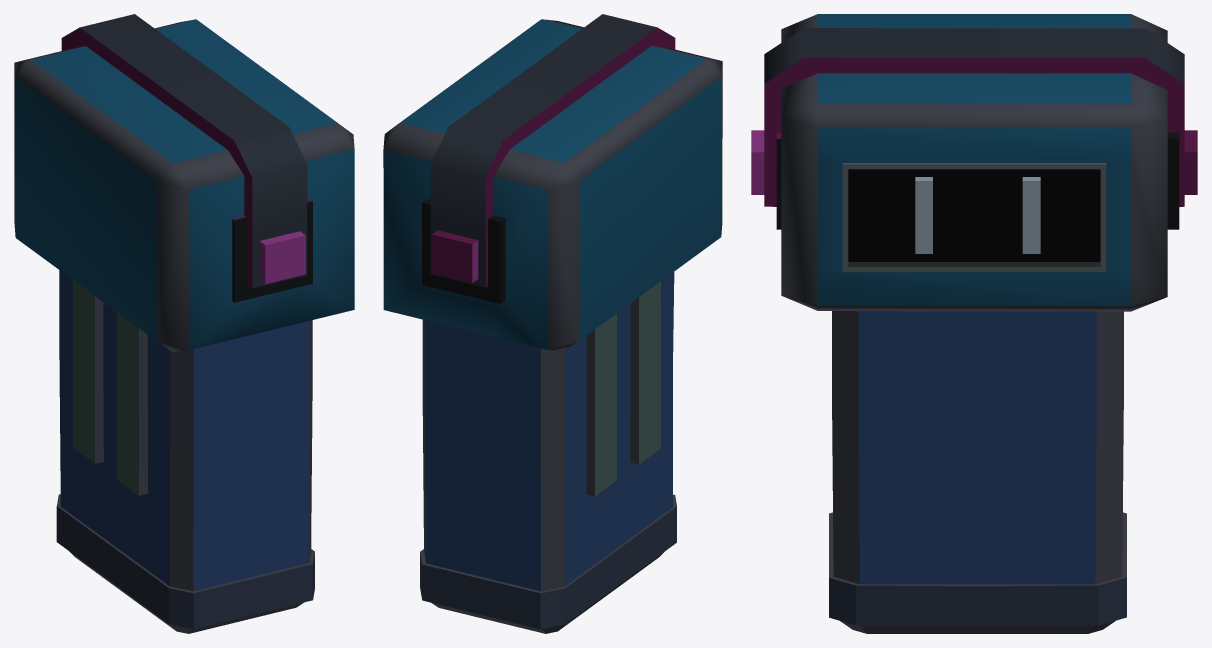
File: playerOther.fbx
3 renders of one model, left to right at view 1: azimuth 30°, elevation 25°; view 2: azimuth 150°, elevation 25°; view 3: azimuth 270°, elevation 25°, orthographic. The views are drawn at different scales.
Parts seen in each view (by area): view 1: polySurface1; view 2: polySurface1; view 3: polySurface1.
Part boxes in pixels (left/top/right/bottom): polySurface1: left=14, top=14, right=354, bottom=633; polySurface1: left=383, top=14, right=722, bottom=633; polySurface1: left=751, top=14, right=1197, bottom=633.
Bounding box in the file's own units: 96.8 × 232 × 169.
